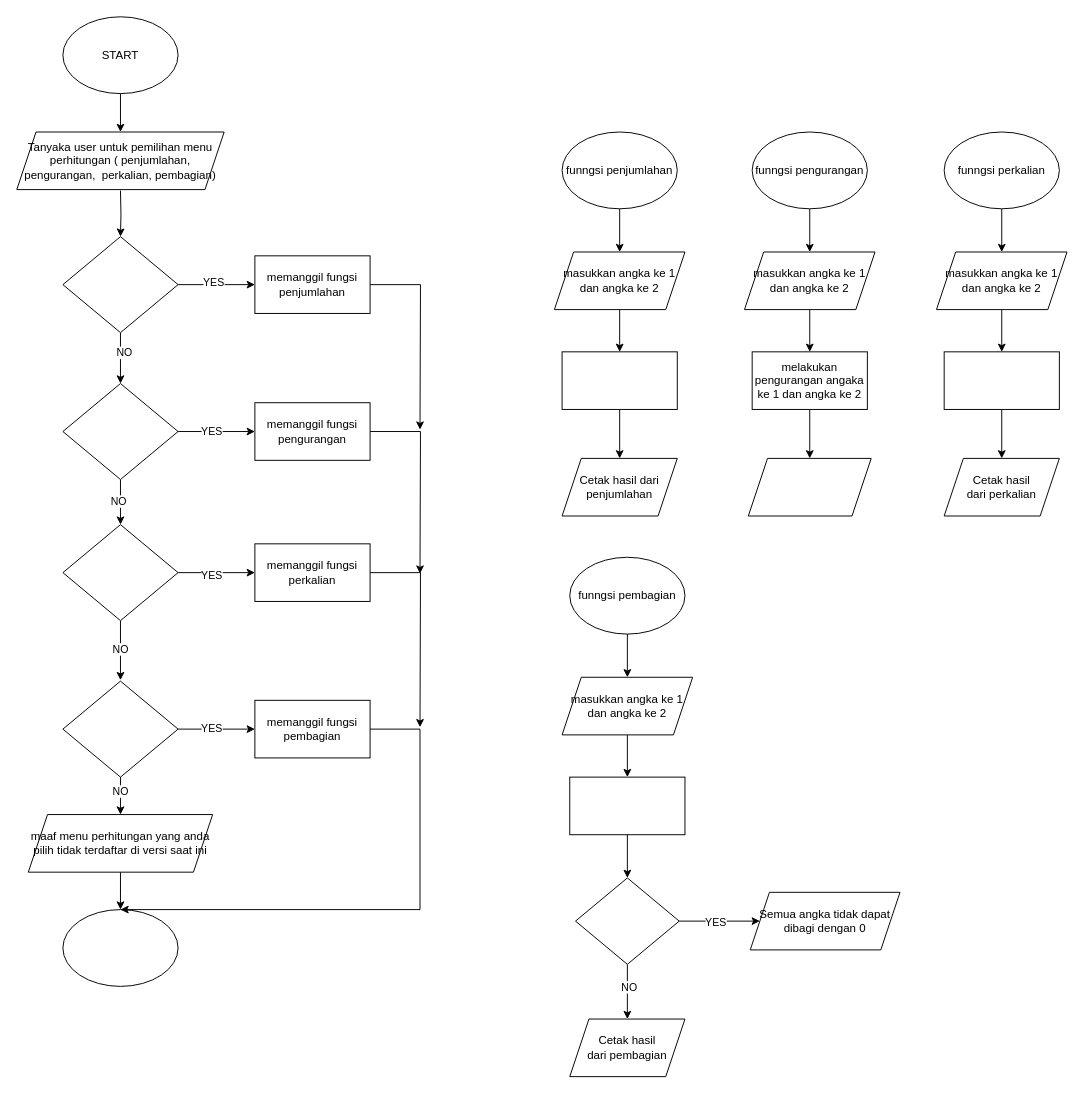
Image size: 1084x1093. Some labels were removed from this diagram. The shapes that lost their labels are listed below. From the top down, each one's box as (x1, y1, x2, y2) in pixels, then its label:
(62, 236, 178, 333): memilih menu penjumlahan
(561, 351, 677, 409): melakukan penjumlahan angaka ke 1 dan angka ke 2
(943, 351, 1059, 409): melakukan perkalian angaka ke 1 dan angka ke 2
(62, 383, 178, 480): memilih menu pengurangan
(747, 457, 871, 516): Cetak hasil dari pengurangan
(62, 524, 178, 621): memilih menu perkalian
(62, 680, 178, 777): memilih menu pembagian
(569, 776, 685, 835): melakukan pembagian angaka ke 1 dan angka ke 2
(575, 877, 679, 964): jika angka ke 2 = 0
(62, 909, 178, 986): END
